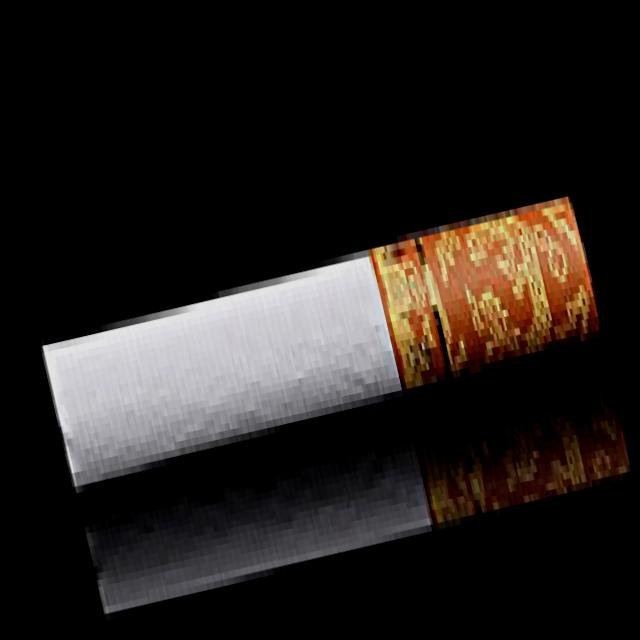smoke: (29, 188, 616, 494)
